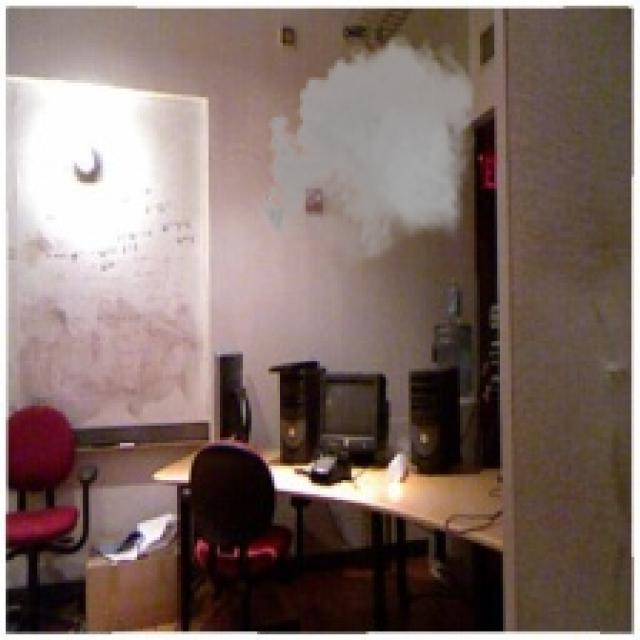Smoke: (254, 26, 483, 274)
